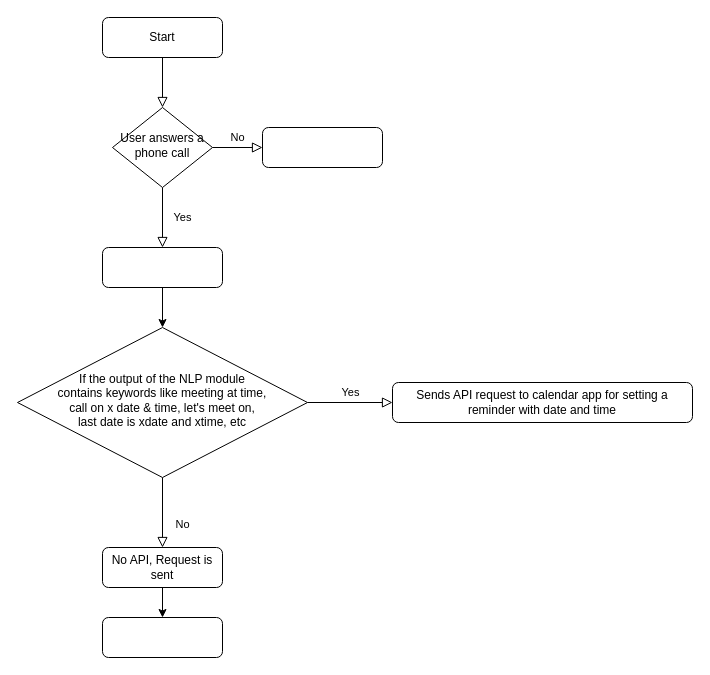
Some shapes in this 710 by 675 pixel diagram are drawn without their labels. The box of each missing label's shape, as (x1, y1, x2, y2) in pixels:
App does not function: (262, 126, 382, 168)
Call recording sent to NLP module: (102, 246, 222, 288)
End: (102, 616, 222, 658)
